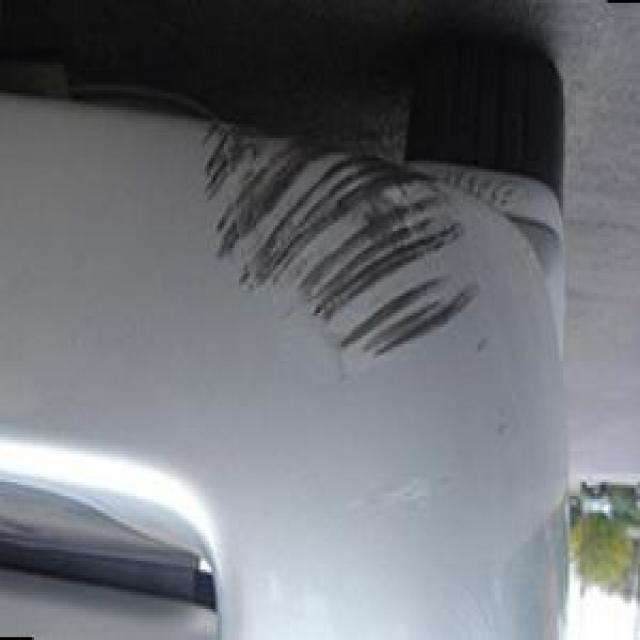scratch: (177, 112, 540, 374)
